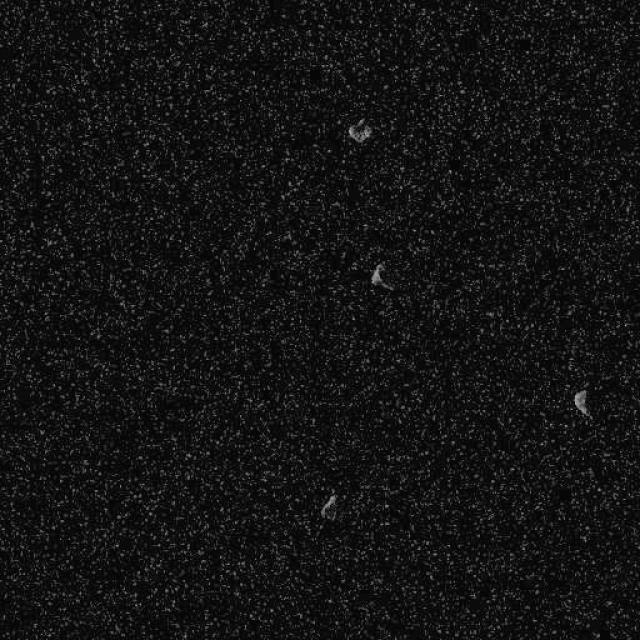D2: (368, 261, 394, 291), (347, 116, 372, 144), (572, 388, 592, 418), (319, 492, 339, 522)
